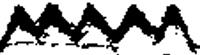Water: (6, 2, 197, 52)
